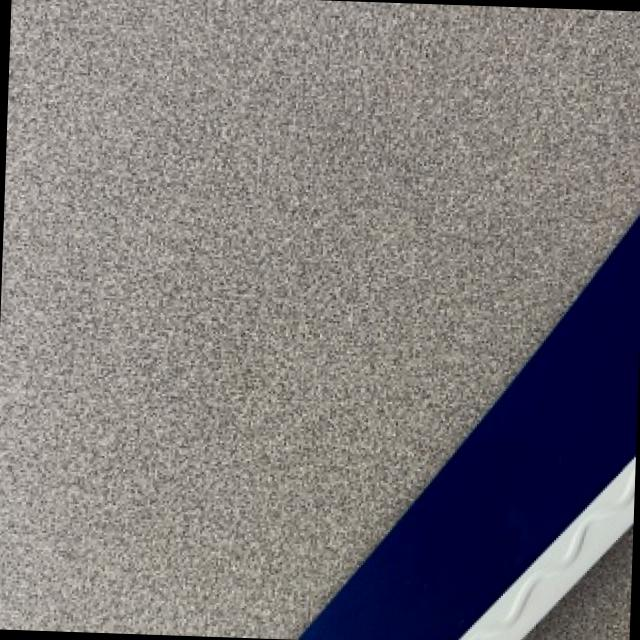healthy: (0, 0, 640, 637)
